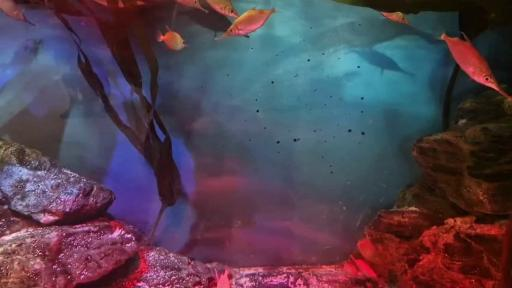Fish: (440, 33, 511, 100), (216, 7, 275, 40), (351, 48, 413, 76), (182, 7, 231, 37), (4, 39, 43, 69), (0, 0, 35, 26), (157, 26, 187, 50), (351, 256, 377, 279), (206, 0, 239, 18), (358, 239, 382, 263), (175, 0, 207, 12), (380, 12, 409, 24), (216, 269, 231, 287), (94, 0, 107, 6)
